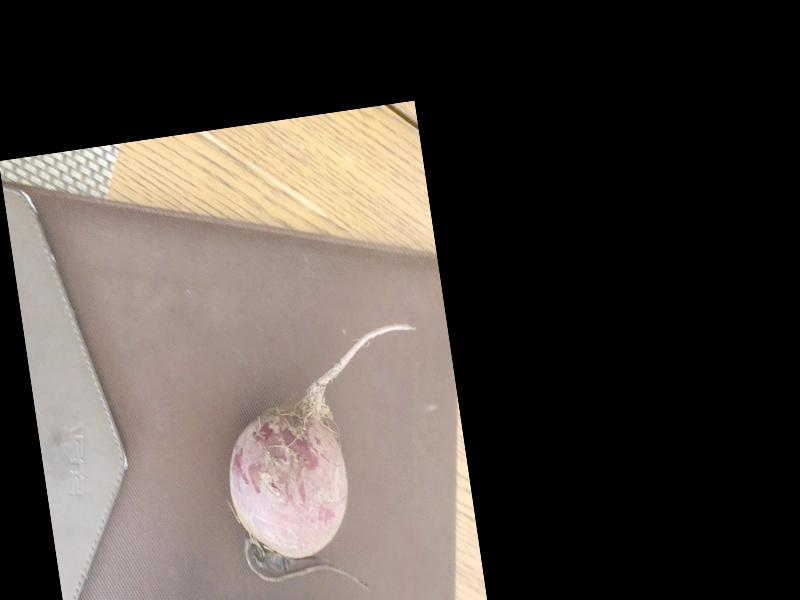Beet: (210, 320, 450, 600)
